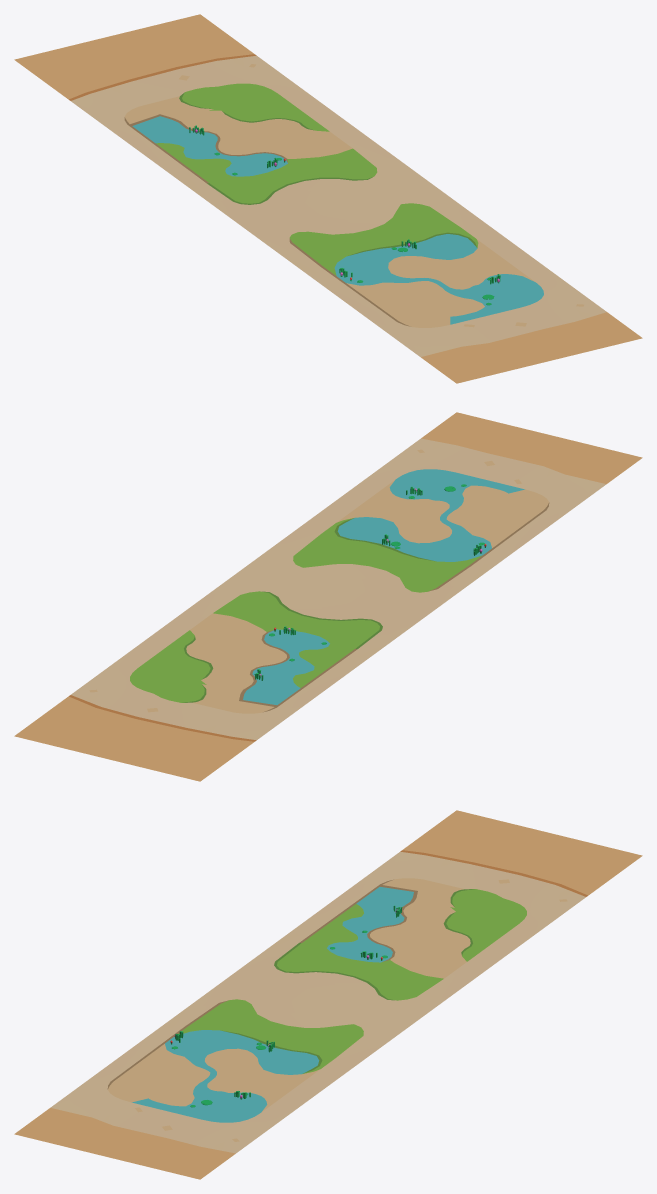
Rendered from west_kuozhan_04.FBX.
3 views of the same model, one above another, from view 1: azimuth 30°, elevation 25°; view 2: azimuth 150°, elevation 25°; view 3: azimuth 330°, elevation 25° (orthographic).
Visible parts, largest first — view 1: west_kuozhan_04; view 2: west_kuozhan_04; view 3: west_kuozhan_04.
Part boxes in pixels (bbox=[...]): west_kuozhan_04: bbox=[14, 14, 642, 383]; west_kuozhan_04: bbox=[14, 412, 642, 781]; west_kuozhan_04: bbox=[14, 810, 642, 1179].
Size of the model in its own units: 5330 by 377 by 21939.
1 material, 1 textured.
